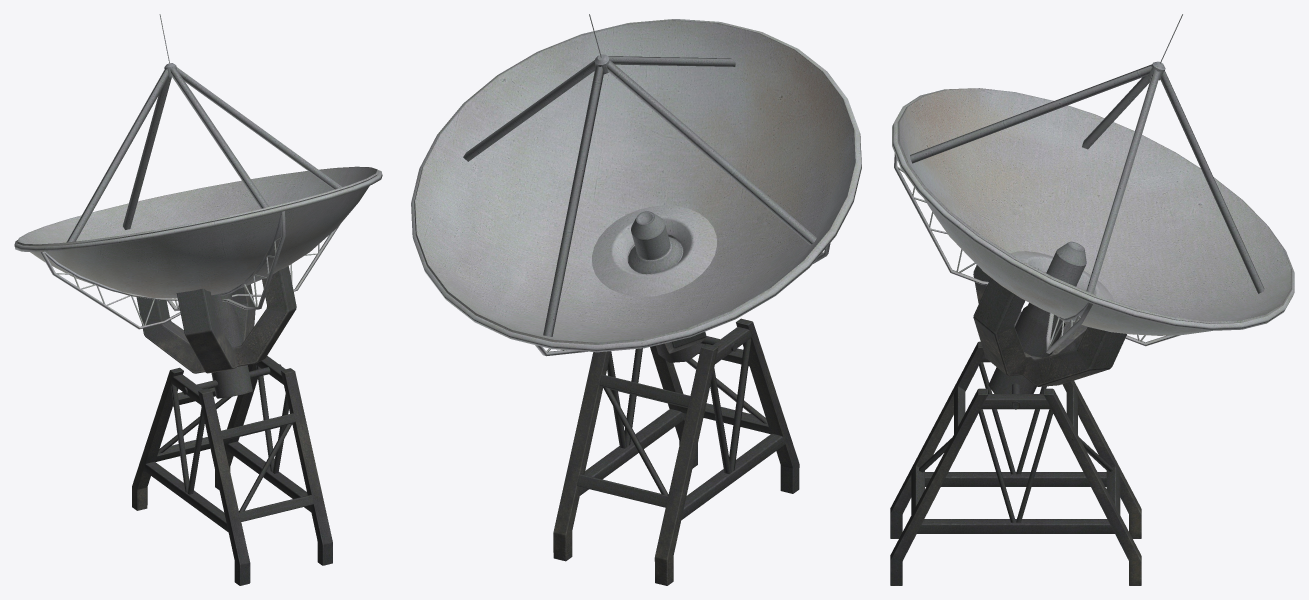
The model's file is Radio_Antenna.glb.
The picture shows the model from 3 angles, left to right: view 1: azimuth 30°, elevation 25°; view 2: azimuth 150°, elevation 25°; view 3: azimuth 270°, elevation 25°; orthographic projection. The views are drawn at different scales.
Visible parts, largest first — view 1: Radio_Antenna__LOD3; view 2: Radio_Antenna__LOD3; view 3: Radio_Antenna__LOD3.
Part boxes in pixels (x1,y1,x2,y2): Radio_Antenna__LOD3: [14, 14, 382, 585]; Radio_Antenna__LOD3: [411, 14, 861, 585]; Radio_Antenna__LOD3: [890, 14, 1294, 585].
Size of the model in its own units: 5.18 by 7.14 by 4.8.
1 material, 1 textured.
